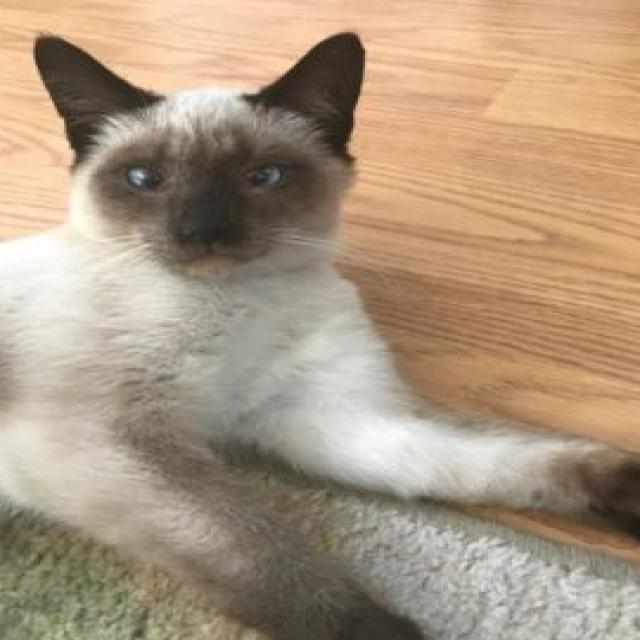Siamese: (0, 26, 640, 640)
